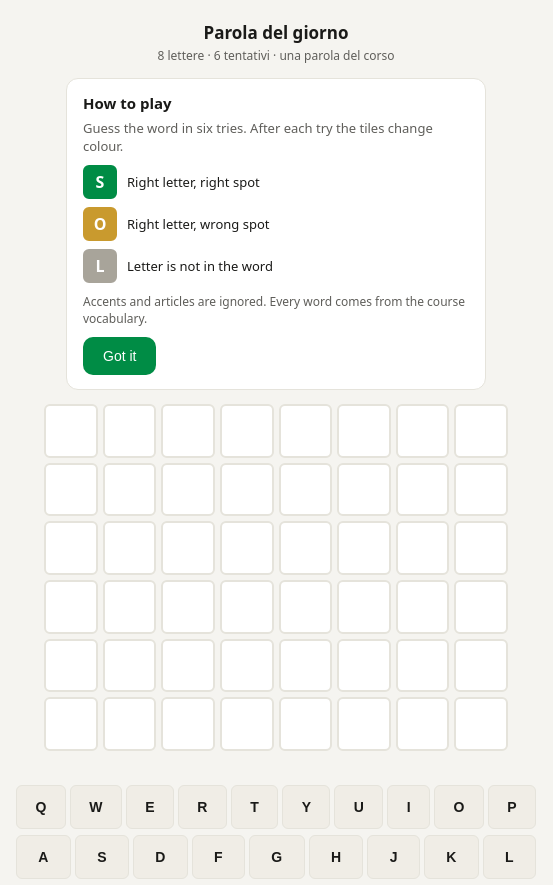
WordGame › refuses a guess of the wrong length
Step 1. Click the button "a" → (43, 857), box [16,835,71,879]
(page scrolled)
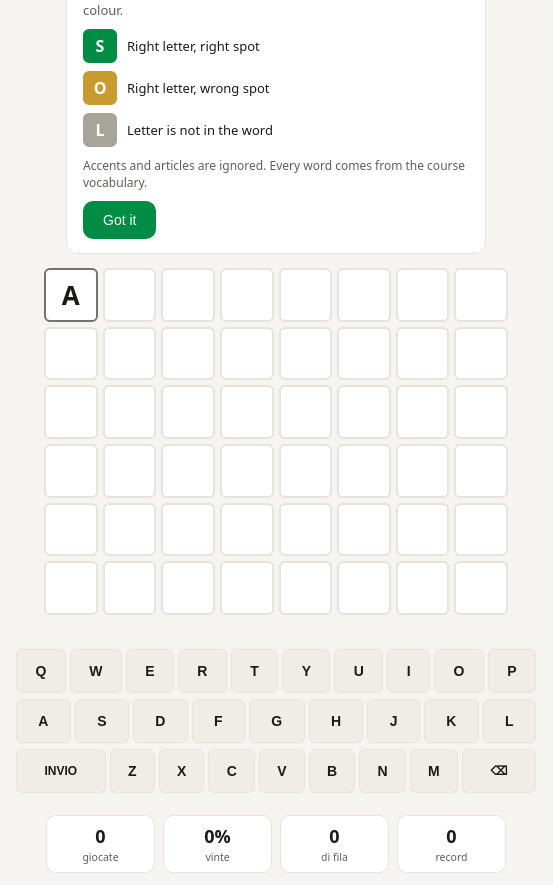
Step 2. Click the button "b" → (332, 771), box [309,749,355,793]
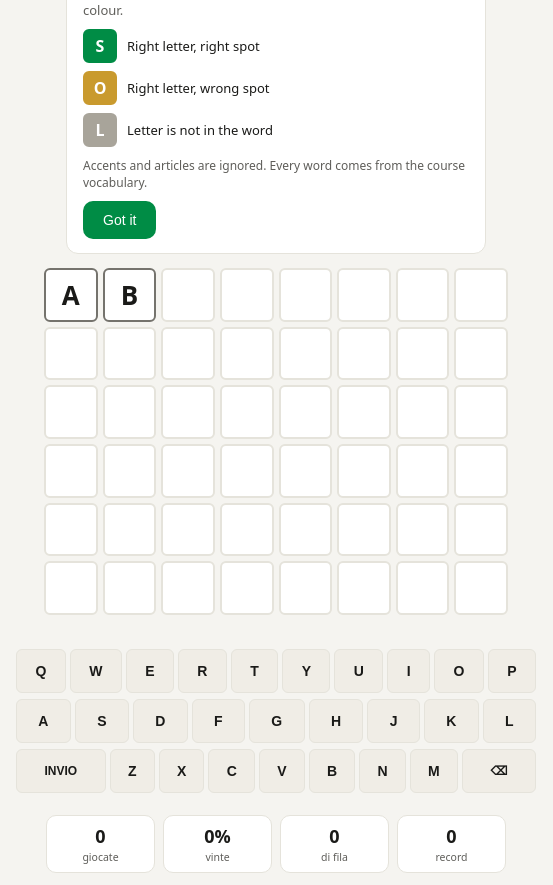
Step 3. Click the button "Invio" → (61, 771), box [16,749,106,793]
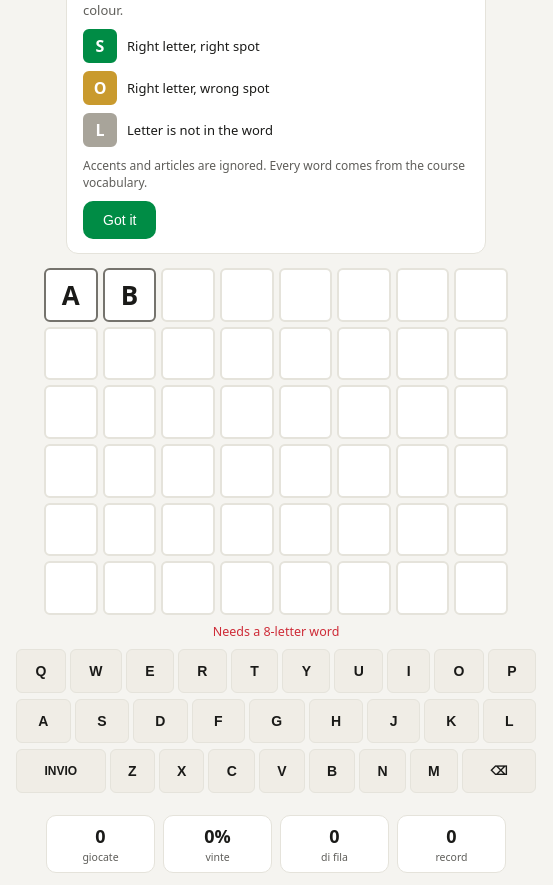
Expected: the message shows "-letter", [213,623,339,640]
